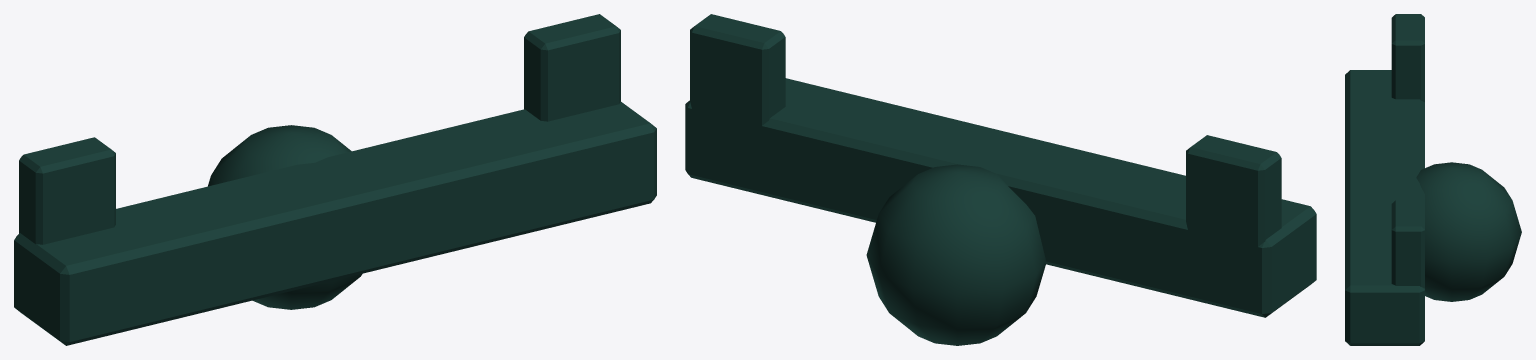
Rendered from yoke.glb.
3 views of the same model, side by side, from view 1: azimuth 30°, elevation 25°; view 2: azimuth 150°, elevation 25°; view 3: azimuth 270°, elevation 25° (orthographic). The views are drawn at different scales.
Visible parts, largest first — view 1: NEW_FL3_yoke; view 2: NEW_FL3_yoke; view 3: NEW_FL3_yoke.
Part boxes in pixels (<box>): NEW_FL3_yoke: <box>14,14,656,345</box>; NEW_FL3_yoke: <box>685,14,1316,345</box>; NEW_FL3_yoke: <box>1345,14,1521,345</box>.
Bounding box in the file's own units: 0.78 × 0.29 × 0.265.
